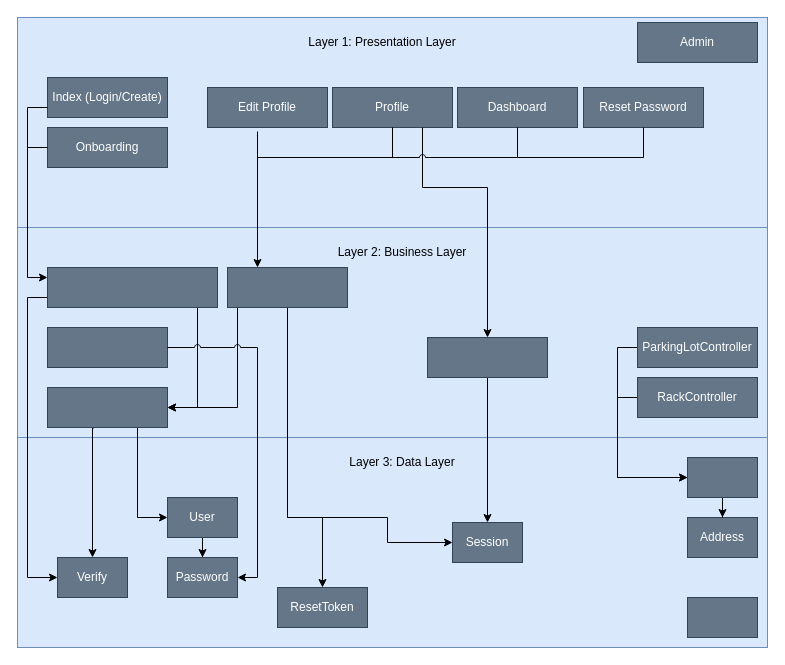
Some shapes in this 785 by 665 pixel diagram are drawn without their labels. The centre of each missing label's shape, as x and y in pixels:
"AccountController" belongs at point (287, 287).
"CreateAccountController" belongs at point (132, 287).
"EmailController" belongs at point (107, 407).
"Location" belongs at point (722, 477).
"LoginController" belongs at point (107, 347).
"LogoutController" belongs at point (487, 357).
"OAuth" belongs at point (722, 617).
